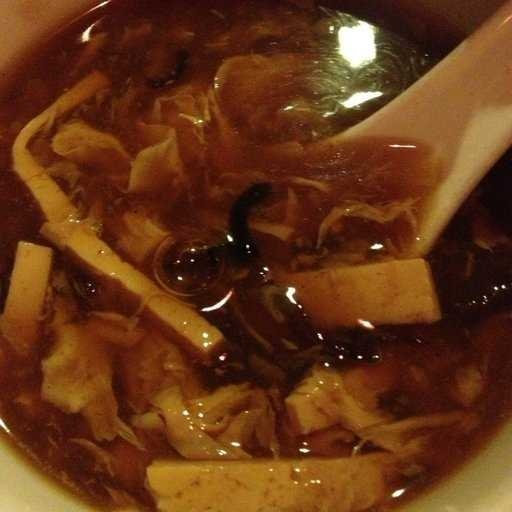soup: (24, 8, 455, 493)
